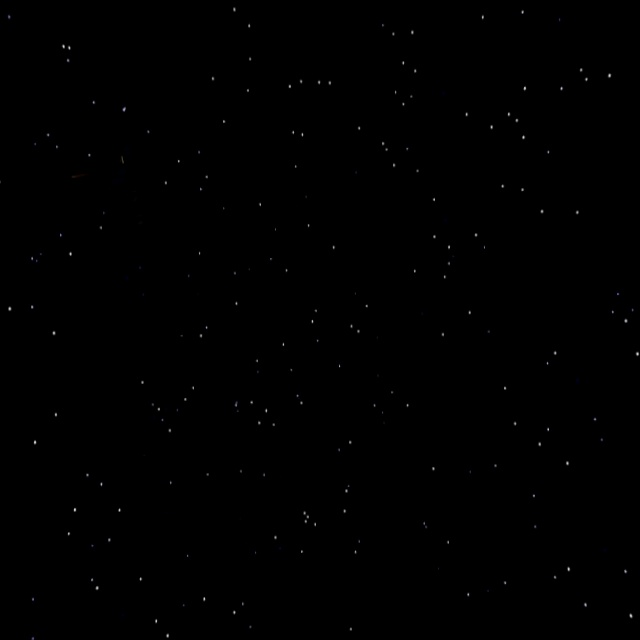satellite: (65, 146, 175, 240)
